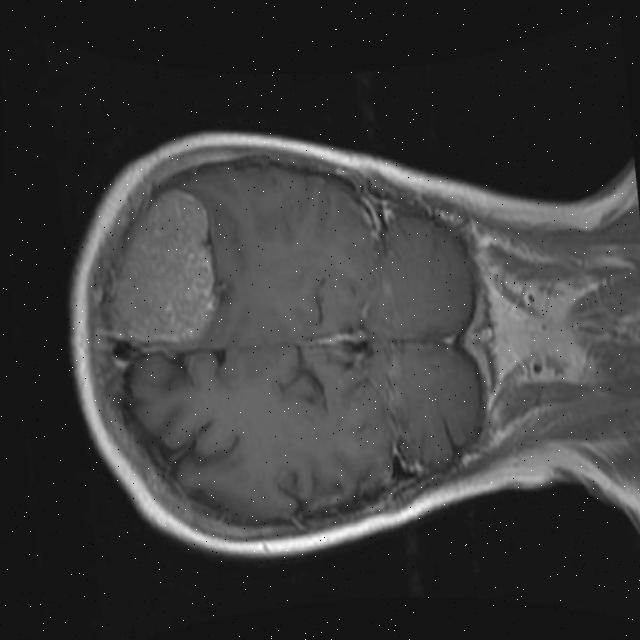Meningioma: (91, 183, 225, 354)
